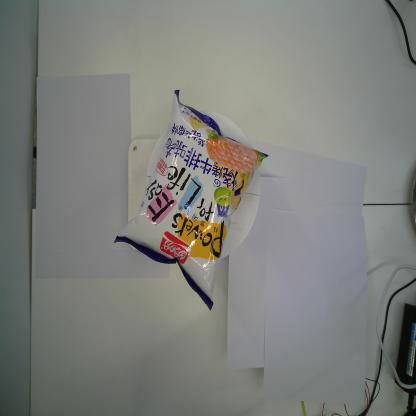Puffed Food: (112, 88, 269, 313)
